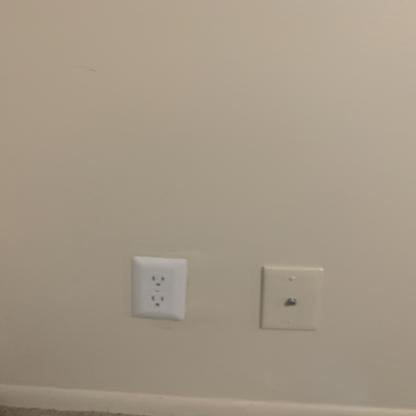OUTLET: (130, 256, 188, 319)
